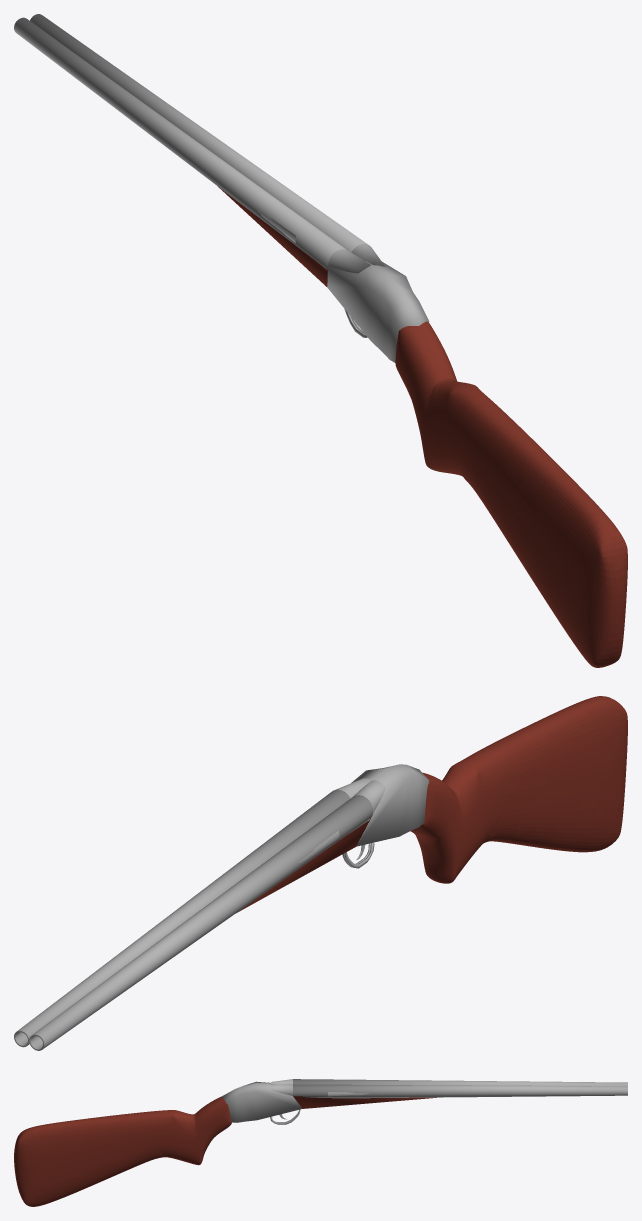
Rendered from DBshotgun.fbx.
3 renders of one model, top to bottom at view 1: azimuth 30°, elevation 25°; view 2: azimuth 150°, elevation 25°; view 3: azimuth 270°, elevation 25°, orthographic. The views are drawn at different scales.
Parts seen in each view (by area): view 1: Stock, Barrel, Main; view 2: Stock, Barrel, Main; view 3: Stock, Barrel, Main.
Part boxes in pixels (<box>): Stock: <box>395,321,627,667</box>; Barrel: <box>14,14,367,286</box>; Main: <box>327,244,429,362</box>; Stock: <box>410,696,627,883</box>; Barrel: <box>14,790,373,1050</box>; Main: <box>335,764,429,868</box>; Stock: <box>14,1096,231,1206</box>; Barrel: <box>293,1079,627,1108</box>; Main: <box>221,1079,301,1124</box>.
Size of the model in its own units: 7.96 by 39.5 by 178.
